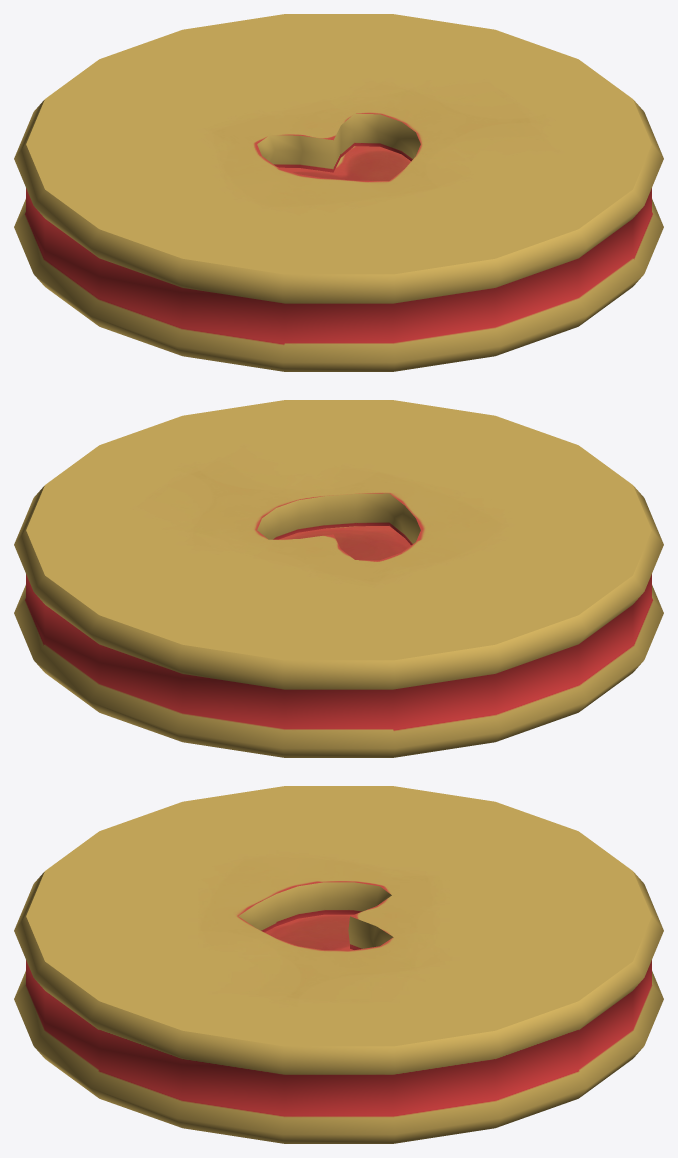
Rendered from jammy dodger.FBX.
3 renders of one model, top to bottom at view 1: azimuth 30°, elevation 25°; view 2: azimuth 150°, elevation 25°; view 3: azimuth 270°, elevation 25°, orthographic.
Parts seen in each view (by area): view 1: Tube001; view 2: Tube001; view 3: Tube001.
Boxes of the visible parts, x1,y1,x2,y2 form: Tube001: [14, 14, 663, 371]; Tube001: [14, 400, 663, 757]; Tube001: [14, 786, 663, 1143].
Bounding box in the file's own units: 84.43 × 14.18 × 85.73.
